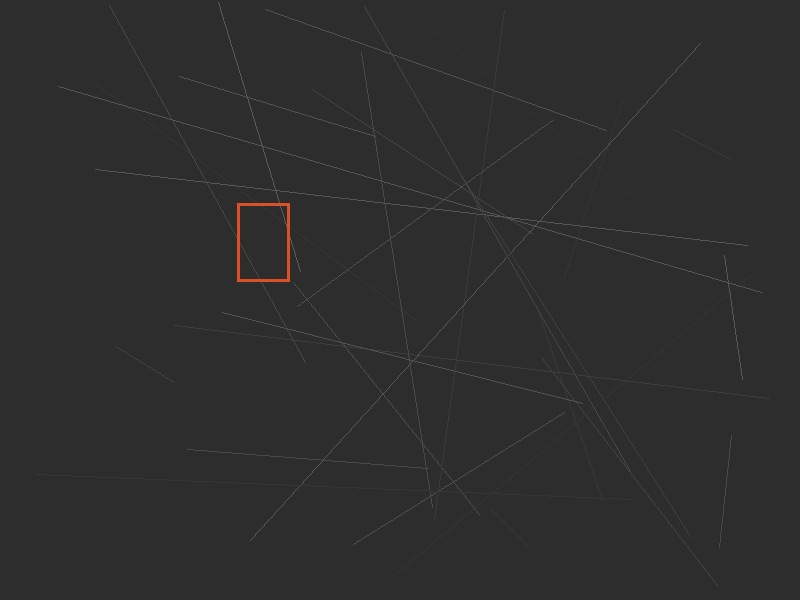D00: (237, 203, 289, 281)
